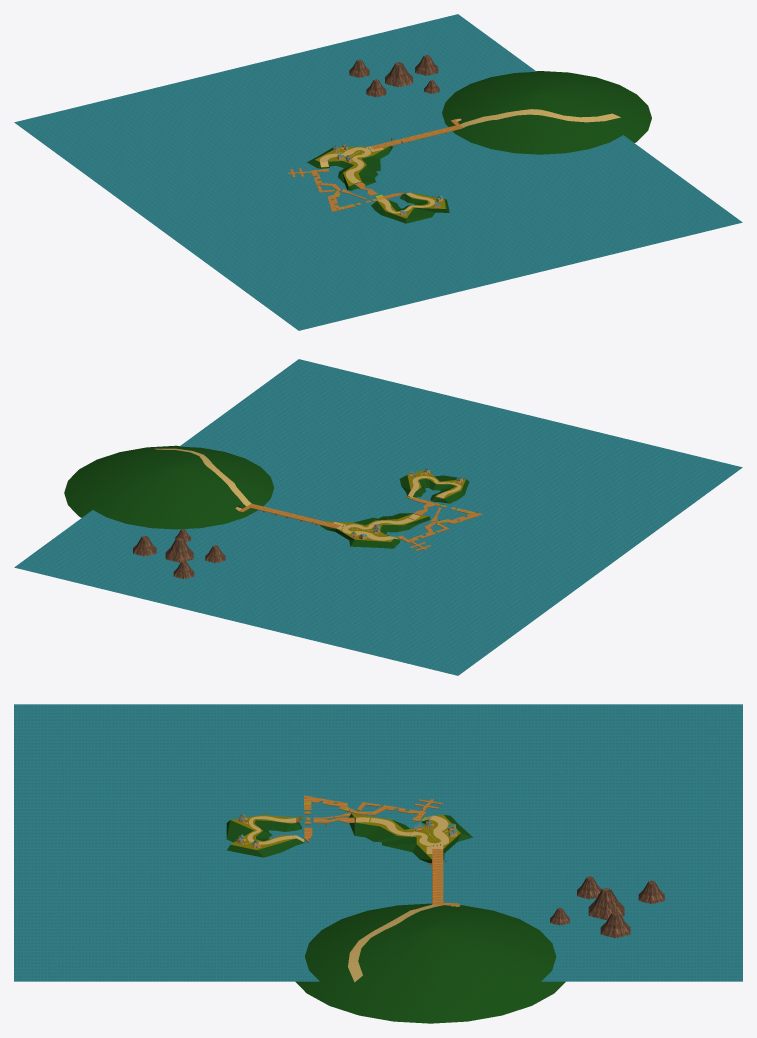
3 renders of one model, top to bottom at view 1: azimuth 30°, elevation 25°; view 2: azimuth 150°, elevation 25°; view 3: azimuth 270°, elevation 25°, orthographic. The views are drawn at different scales.
Visible parts, largest first — view 1: Water.017, OOBgrass.003, Road.022, Rock.003, Wood.005, Grass.014; view 2: Water.017, OOBgrass.003, Wood.005, Rock.003, Road.022, Grass.014; view 3: Water.017, OOBgrass.003, Rock.003, Road.022, Wood.005, Grass.014.
Part boxes in pixels (x1,y1,x2,y2): Water.017: (14,14,742,330); OOBgrass.003: (307,71,651,223); Road.022: (319,109,620,213); Rock.003: (349,55,459,119); Wood.005: (288,119,462,211); Grass.014: (315,145,445,218); Water.017: (14,359,742,675); OOBgrass.003: (64,445,469,548); Wood.005: (239,472,482,551); Rock.003: (133,506,241,578); Road.022: (154,448,461,540); Grass.014: (325,470,465,541); Water.017: (14,704,742,981); OOBgrass.003: (226,813,565,1023); Rock.003: (450,876,664,938); Road.022: (242,815,459,982); Wood.005: (243,795,459,905); Grass.014: (231,813,460,859).
Bounding box in the file's own units: 407719 × 20641 × 401482.
Materials: 14 (14 with a texture image).
